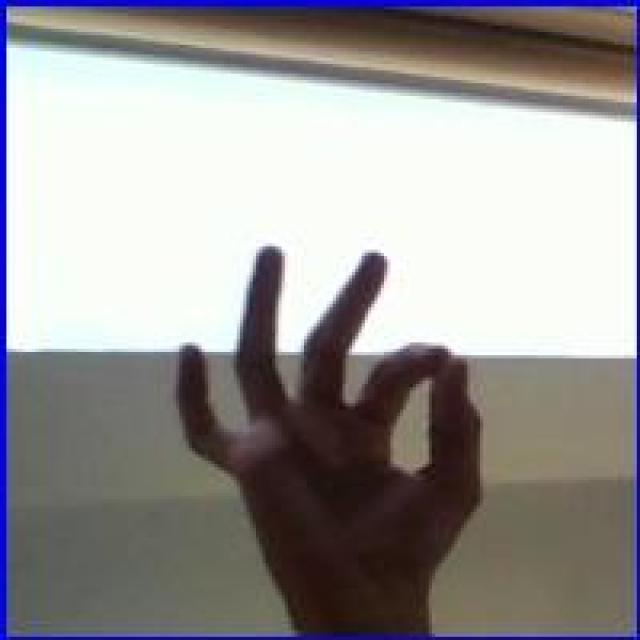F: (172, 234, 494, 595)
